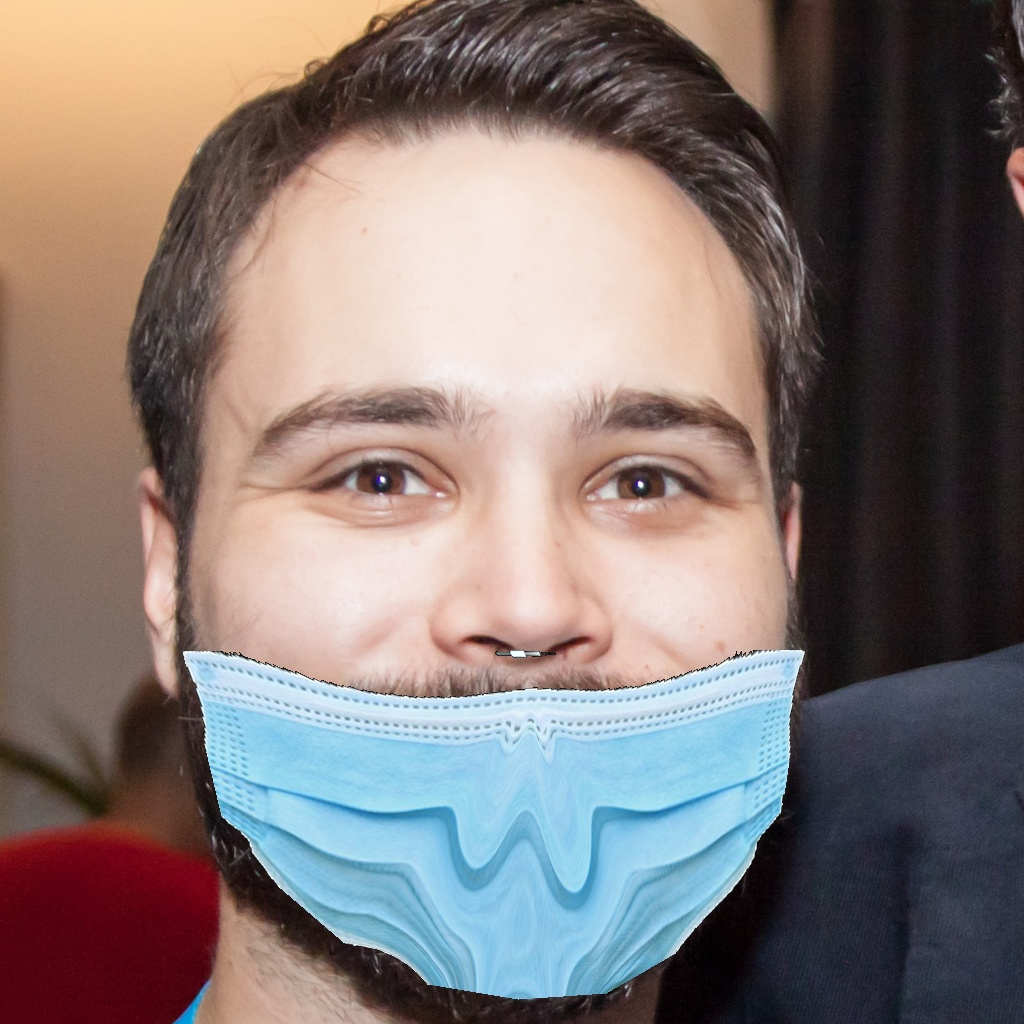mascarilla_mal_puesta: (116, 288, 881, 973)
